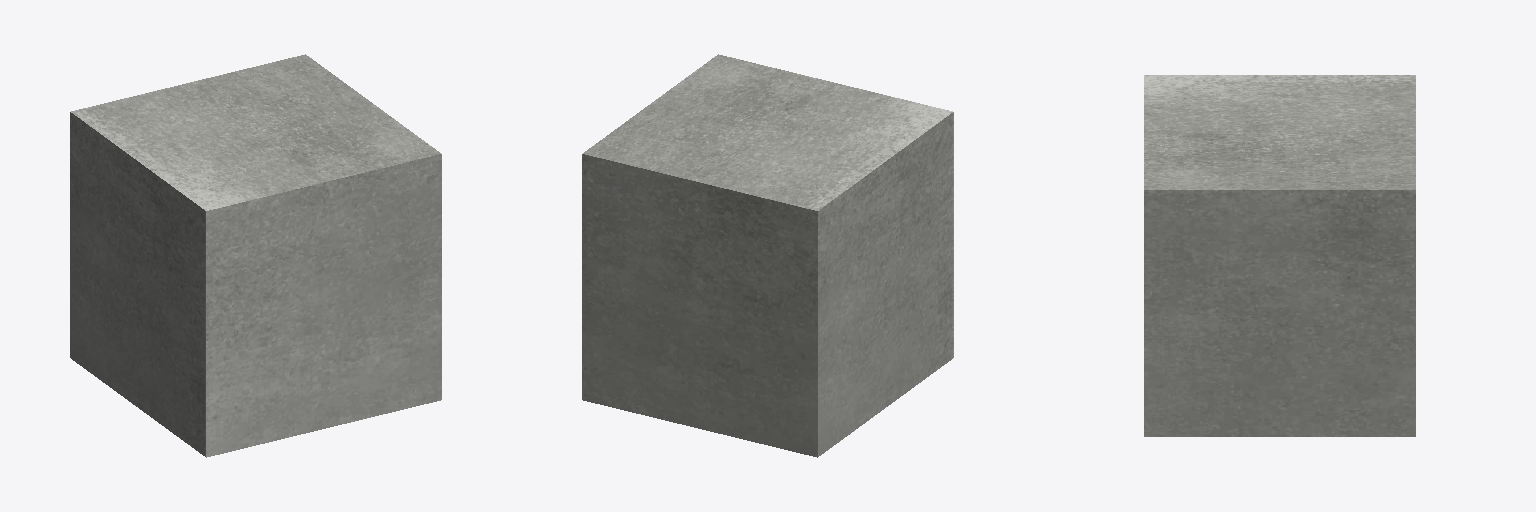
3 views of the same model, side by side, from view 1: azimuth 30°, elevation 25°; view 2: azimuth 150°, elevation 25°; view 3: azimuth 270°, elevation 25° (orthographic).
Visible parts, largest first — view 1: 立方体; view 2: 立方体; view 3: 立方体.
Part boxes in pixels (x1,y1,x2,y2): 立方体: (70, 54, 441, 457); 立方体: (582, 54, 953, 457); 立方体: (1144, 75, 1415, 436).
Bounding box in the file's own units: 2 × 2 × 2.
Materials: 1 (1 with a texture image).